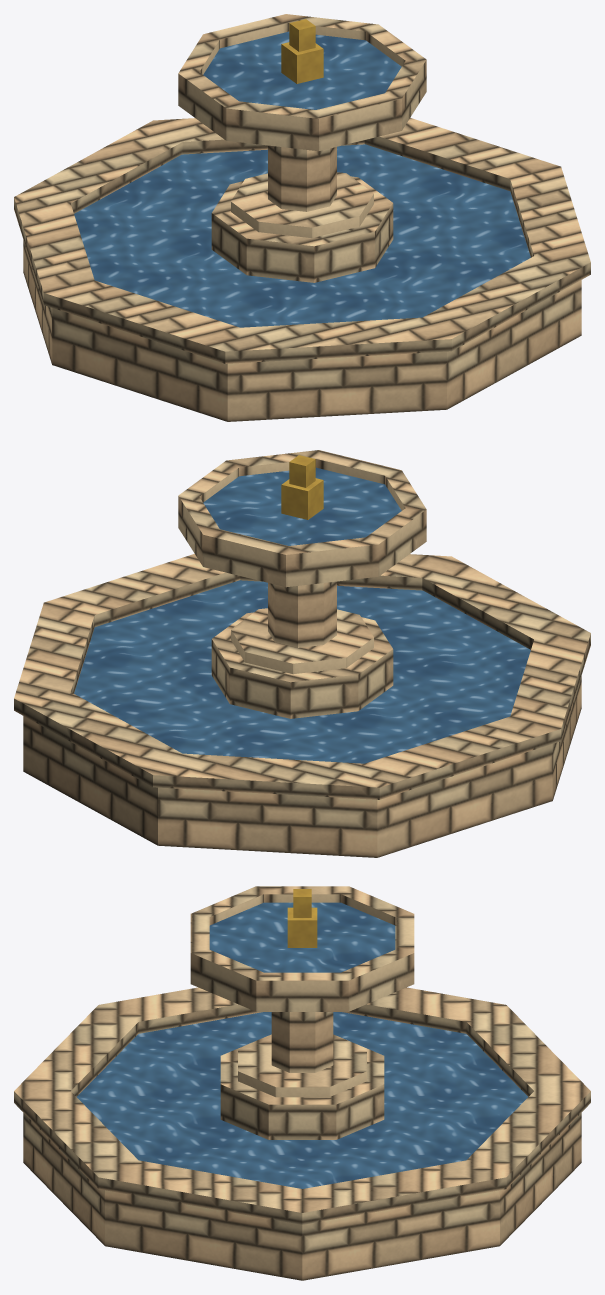
The model's file is fountain.glb.
3 renders of one model, top to bottom at view 1: azimuth 30°, elevation 25°; view 2: azimuth 150°, elevation 25°; view 3: azimuth 270°, elevation 25°, orthographic. The views are drawn at different scales.
Parts seen in each view (by area): view 1: fountain; view 2: fountain; view 3: fountain.
Boxes of the visible parts, <box> form: fountain: <box>14,14,590,421</box>; fountain: <box>14,450,590,857</box>; fountain: <box>14,886,590,1280</box>.
Bounding box in the file's own units: 6.2 × 3.2 × 6.2.
Materials: 3 (3 with a texture image).
